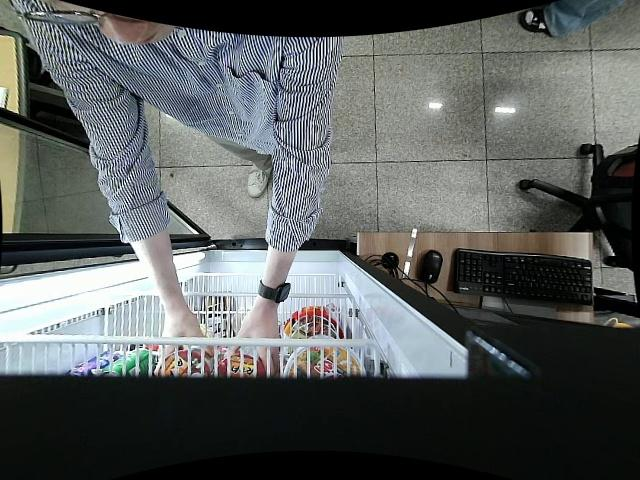00_hand: (225, 308, 280, 377), (163, 316, 212, 355)
06_nuguri_S: (215, 348, 269, 379), (162, 351, 215, 375)
